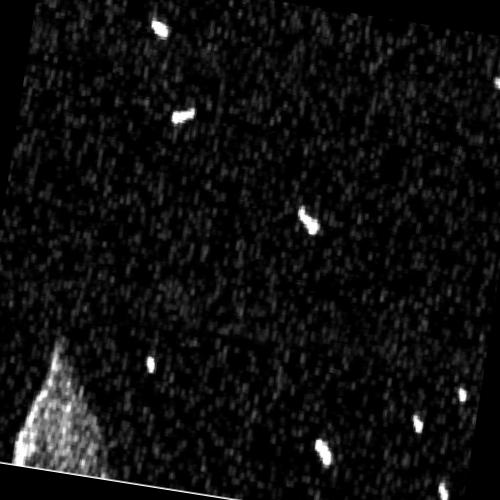ship: (297, 206, 321, 236), (313, 437, 333, 468), (170, 106, 196, 127), (150, 19, 171, 40), (411, 412, 425, 435), (144, 354, 157, 375), (437, 481, 449, 500), (458, 386, 468, 406), (494, 75, 500, 90)
